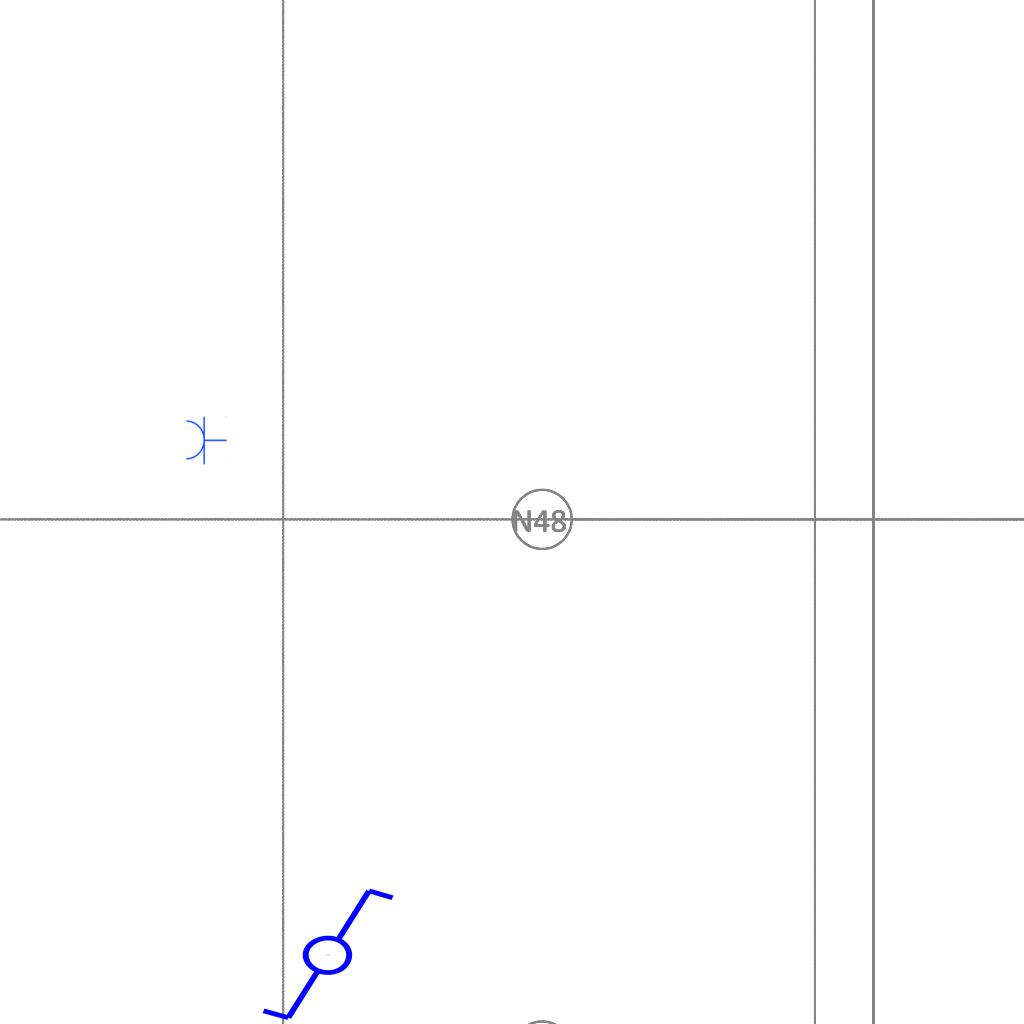Schukosteckdose_einfach: (184, 415, 227, 465)
Wechselschalter: (241, 881, 398, 1024)
